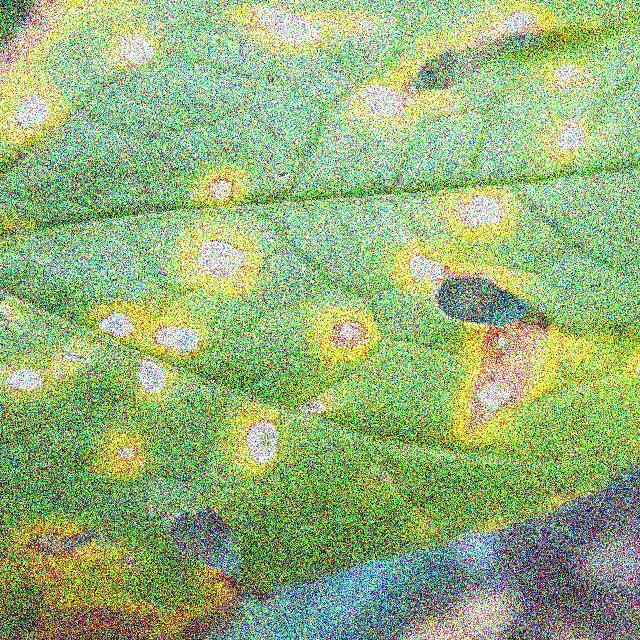shot_hole: (335, 110, 600, 512)
